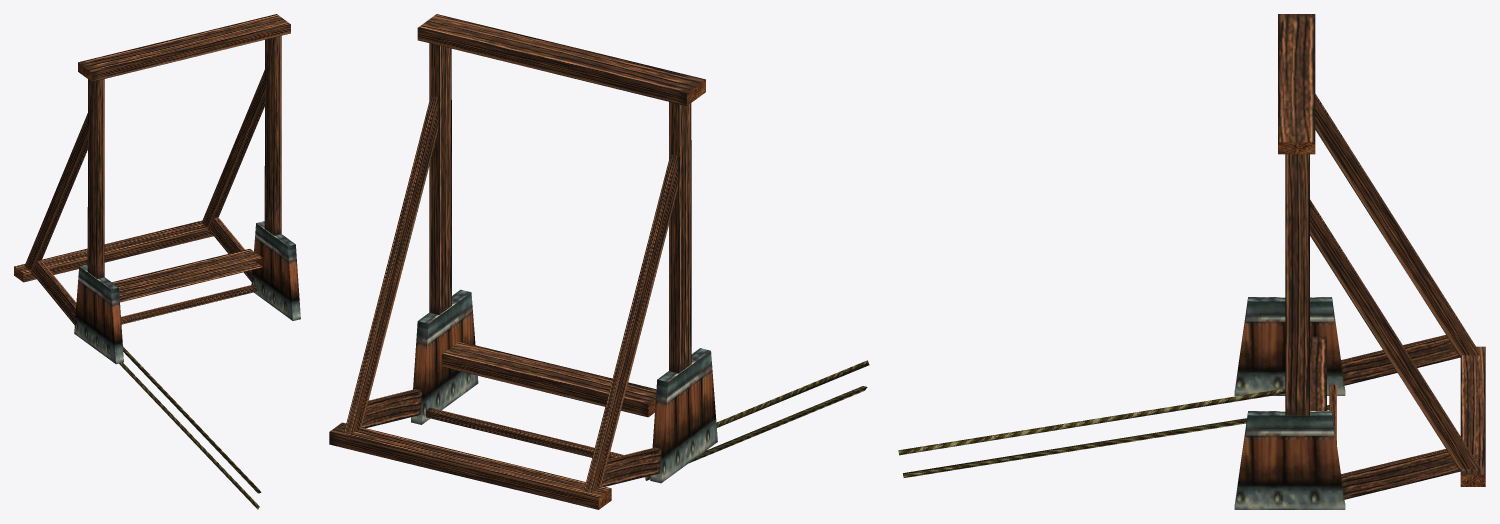
Rendered from LAKETOWN_EXTERIOR_PS_LT_RAMP_BRACW__GX.fbx.
The picture shows the model from 3 angles, left to right: view 1: azimuth 30°, elevation 25°; view 2: azimuth 150°, elevation 25°; view 3: azimuth 270°, elevation 25°; orthographic projection. The views are drawn at different scales.
Visible parts, largest first — view 1: LAKETOWN_EXTERIOR_PS_LT_RAMP_BRACW__GX; view 2: LAKETOWN_EXTERIOR_PS_LT_RAMP_BRACW__GX; view 3: LAKETOWN_EXTERIOR_PS_LT_RAMP_BRACW__GX.
Boxes of the visible parts, x1=… form: LAKETOWN_EXTERIOR_PS_LT_RAMP_BRACW__GX: x1=14, y1=14, x2=300, y2=509; LAKETOWN_EXTERIOR_PS_LT_RAMP_BRACW__GX: x1=329, y1=14, x2=869, y2=509; LAKETOWN_EXTERIOR_PS_LT_RAMP_BRACW__GX: x1=898, y1=14, x2=1485, y2=509.
Size of the model in its own units: 35678 by 58016 by 68842.
4 materials, 4 textured.
